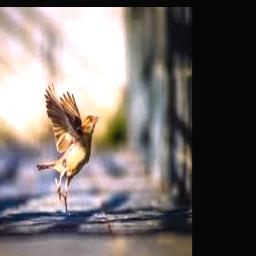Sparrow: (37, 82, 99, 215)
